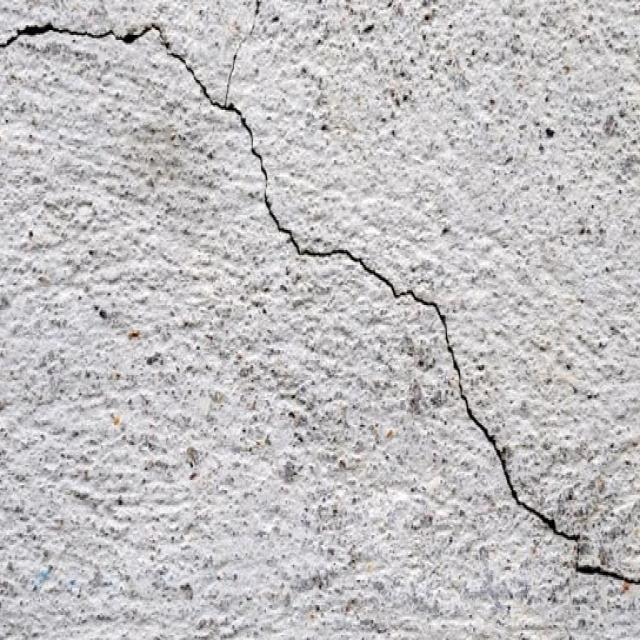Diagonal: (357, 255, 636, 593)
Radial: (0, 0, 355, 267)
